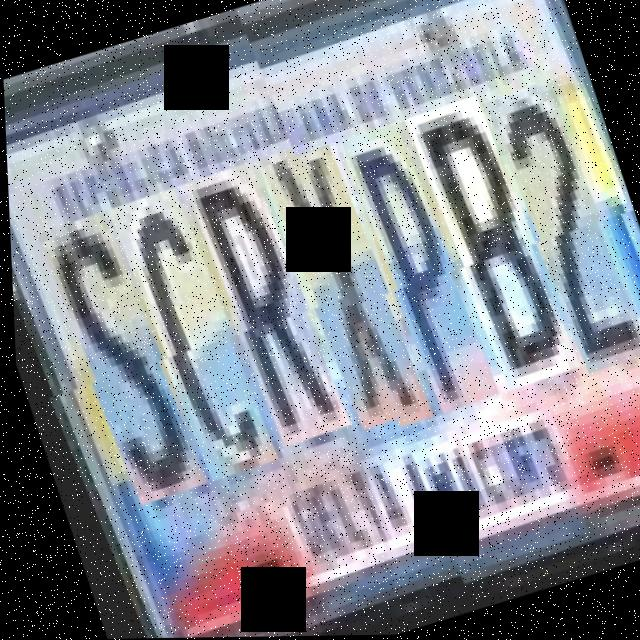2: (480, 81, 640, 384)
B: (400, 94, 578, 399)
C: (106, 192, 278, 496)
P: (333, 120, 497, 421)
R: (182, 169, 350, 462)
S: (34, 216, 207, 520)
X: (257, 143, 431, 447)
